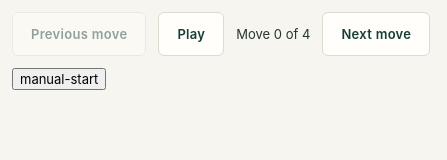
Scenario: manual navigation stops playback before changing position
What coordinates should you click on to do the following:
click the button "Play"
I would click on:
 (191, 34)
Its box is [158,12,224,56].
Wait 1000 ms
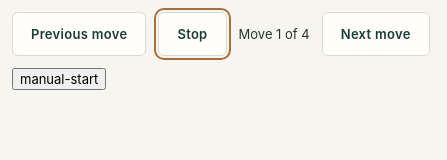
Check: the button "Stop" is shown, box [158,12,227,56]
What coordinates should you click on to do the following:
click the button "Next move"
I would click on:
 (376, 34)
Its box is [322,12,430,56].
Wait 10000 ms
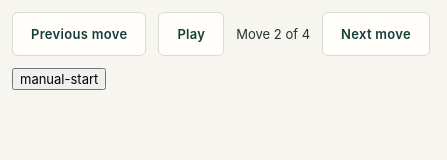
Check: the button "Play" is shown, box [158,12,224,56]
Check: the text "Move 2 of 4" is shown, box [236,26,310,42]
